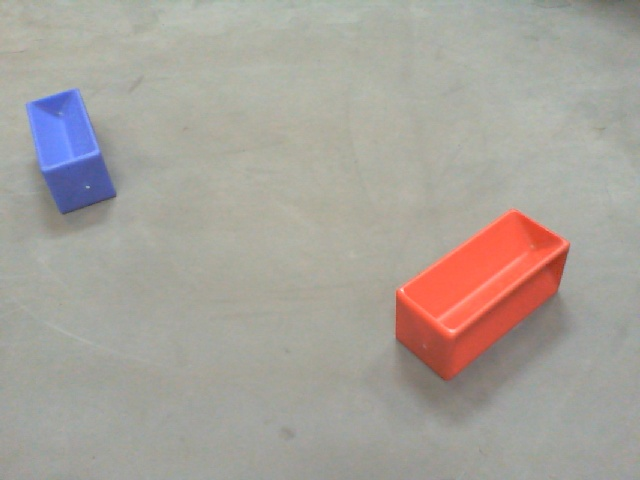BlueSample: (23, 86, 117, 213)
RedSample: (392, 205, 574, 387)
